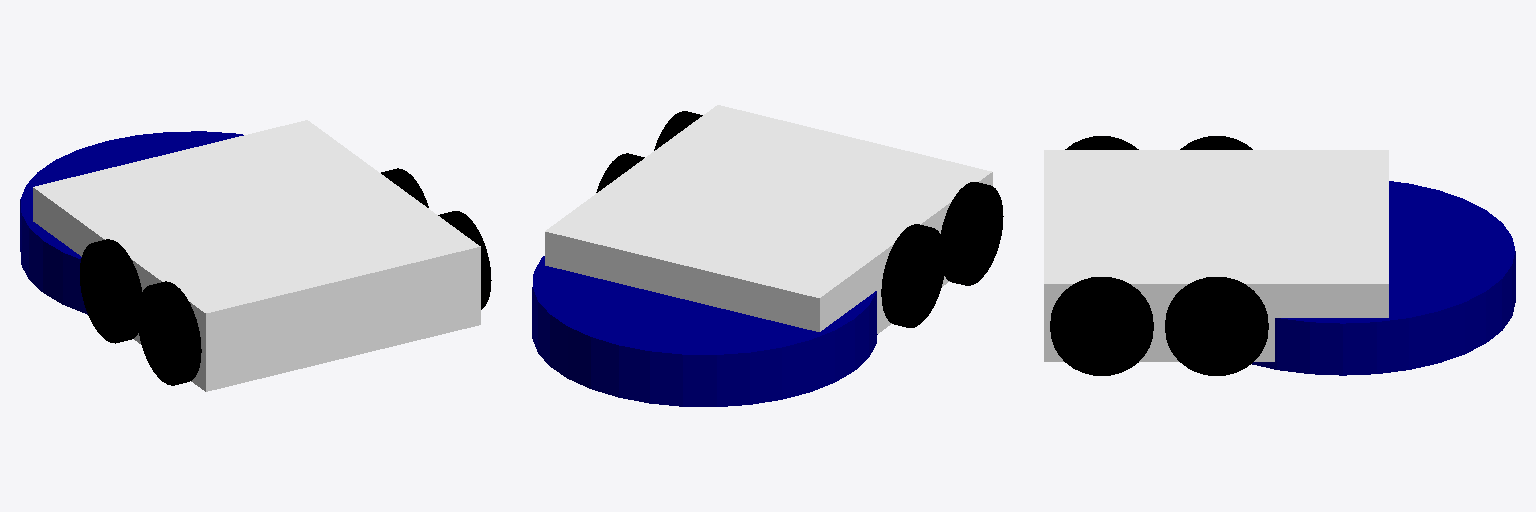
URDF robot description (cleaner):
<robot name="cleaner">
    <material name="red"> <color rgba="0.6 0 0 1"/> </material>
    <material name="green"> <color rgba="0 0.6 0 1"/> </material>
    <material name="blue"> <color rgba="0 0 0.6 1"/> </material>
    <material name="gray"> <color rgba="0.6 0.6 0.6 1"/> </material>
    <material name="black"> <color rgba="0 0 0 1"/> </material>
    <material name="white"> <color rgba="1 1 1 1"/> </material>

    <link name="base_footprint"/>
    <joint name="base_footprint" type="fixed">
        <parent link="base_footprint"/>
        <child link="base_link"/>
        <origin xyz="0 0 0.015" rpy="0 0 0"/>
    </joint>

    <link name="base_link">
        <visual>
            <geometry>
                <box size="0.55 0.6 0.15"/>
            </geometry>
            <material name="white"/>
            <origin xyz="0 0 0.075" rpy="0 0 0"/>
        </visual>
    </link>


    <link name="left_wheel1">
        <visual>
            <geometry>
                <cylinder radius="0.09" length="0.025"/>
            </geometry>
            <material name="black"/>
            <origin xyz="0 0 0" rpy="0 0 0"/>
        </visual>
    </link>
    <joint name="left_wheel1_joint" type="continuous">
        <parent link="base_link"/>
        <child link="left_wheel1"/>
        <!-- 0.0125 teker uzunluk yarısı + 0.275 şase ucu + 0.0025 boşluk  -->
        <origin xyz="-0.29 0 0.075" rpy="0 1.57 3.14"/>
        <axis xyz="0 0 1"/>
    </joint>

    <link name="left_wheel2">
        <visual>
            <geometry>
                <cylinder radius="0.09" length="0.025"/>
            </geometry>
            <material name="black"/>
            <origin xyz="0 0 0" rpy="0 0 0"/>
        </visual>
    </link>
    <joint name="left_wheel2_joint" type="continuous">
        <parent link="base_link"/>
        <child link="left_wheel2"/>
        <!-- 0.0125 teker uzunluk yarısı + 0.275 şase ucu + 0.0025 boşluk  -->
        <origin xyz="-0.29 -0.2 0.075" rpy="0 1.57 3.14"/>
        <axis xyz="0 0 1"/>
    </joint>


    <link name="right_wheel1">
        <visual>
            <geometry>
                <cylinder radius="0.09" length="0.025"/>
            </geometry>
            <material name="black"/>
            <origin xyz="0 0 0" rpy="0 0 0"/>
        </visual>
    </link>
    <joint name="right_wheel1_joint" type="continuous">
        <parent link="base_link"/>
        <child link="right_wheel1"/>
        <!-- 0.0125 teker uzunluk yarısı + 0.275 şase ucu + 0.0025 boşluk  -->
        <origin xyz="0.29 0 0.075" rpy="0 1.57 0"/>
        <axis xyz="0 0 1"/>
    </joint>

    <link name="right_wheel2">
        <visual>
            <geometry>
                <cylinder radius="0.09" length="0.025"/>
            </geometry>
            <material name="black"/>
            <origin xyz="0 0 0" rpy="0 0 0"/>
        </visual>
    </link>
    <joint name="right_wheel2_joint" type="continuous">
        <parent link="base_link"/>
        <child link="right_wheel2"/>
        <!-- 0.0125 teker uzunluk yarısı + 0.275 şase ucu + 0.0025 boşluk  -->
        <origin xyz="0.29 -0.2 0.075" rpy="0 1.57 0"/>
        <axis xyz="0 0 1"/>
    </joint>

    <link name="brush">
        <visual>
            <geometry>
                <cylinder radius="0.3" length="0.1"/>
            </geometry>
            <material name="blue"/>
            <origin xyz="0 0 0" rpy="0 0 0"/>
        </visual>
    </link>

    <joint name="base_to_brush" type="continuous">
        <parent link="base_link"/>
        <child link="brush"/>
        <origin xyz="0 0.22 0.035" rpy="0 0 0"/>
        <axis xyz="0 0 1"/>
    </joint>

</robot>

--- Render facts (derived) ---
The picture shows the robot from 3 angles, left to right: view 1: azimuth 30°, elevation 25°; view 2: azimuth 150°, elevation 25°; view 3: azimuth 270°, elevation 25°; orthographic projection.
Robot: cleaner — 7 links, 6 joints (5 continuous, 1 fixed); root link base_footprint; default pose: all joints at 0.
Visible links, largest first — view 1: base_link, brush, left_wheel2, left_wheel1, right_wheel2, right_wheel1; view 2: base_link, brush, left_wheel1, left_wheel2, right_wheel2, right_wheel1; view 3: base_link, brush, right_wheel1, right_wheel2, left_wheel1, left_wheel2.
Link boxes in pixels (x1,y1,x2,y2): base_link: (33, 120, 480, 391); brush: (20, 131, 243, 314); left_wheel2: (137, 281, 201, 385); left_wheel1: (80, 239, 141, 343); right_wheel2: (438, 211, 491, 309); right_wheel1: (381, 168, 428, 207); base_link: (545, 105, 992, 333); brush: (532, 256, 877, 406); left_wheel1: (881, 224, 945, 327); left_wheel2: (941, 182, 1003, 285); right_wheel2: (654, 111, 702, 150); right_wheel1: (596, 153, 644, 192); base_link: (1044, 150, 1388, 361); brush: (1252, 181, 1515, 375); right_wheel1: (1165, 277, 1268, 375); right_wheel2: (1050, 277, 1153, 375); left_wheel1: (1180, 136, 1252, 149); left_wheel2: (1065, 136, 1138, 149).
Size in the robot's own frame: 0.6052 by 0.82 by 0.18 metres.
Geometry: primitives only (box / cylinder / sphere), no mesh files.
